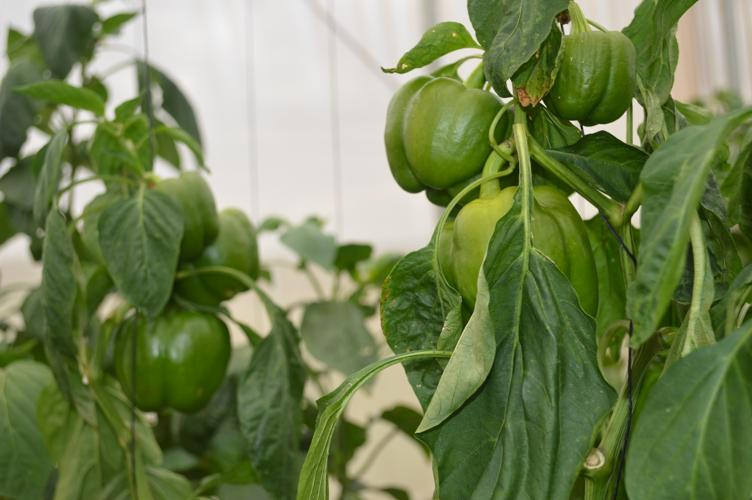BellPepper: (442, 188, 592, 320), (382, 72, 507, 193), (113, 311, 229, 412), (169, 210, 263, 301), (547, 30, 636, 124), (154, 169, 213, 254)
